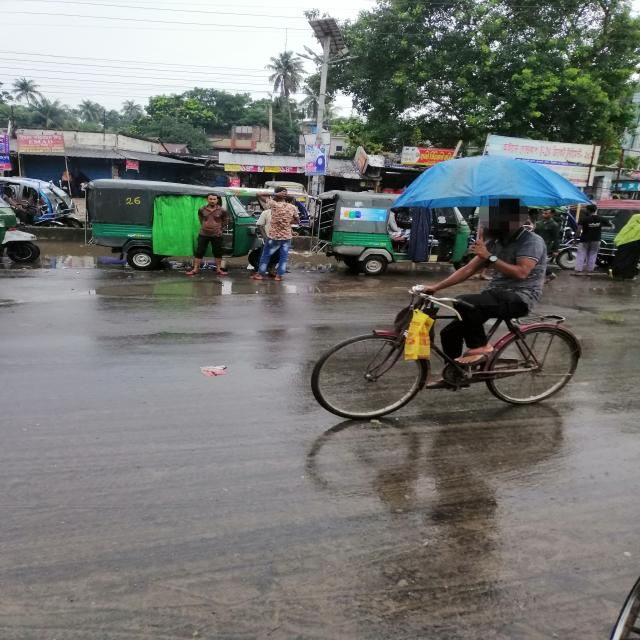Bicycle: (313, 276, 583, 421)
